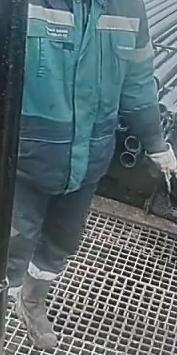gloves: (144, 142, 176, 193)
vest: (15, 0, 153, 195)
